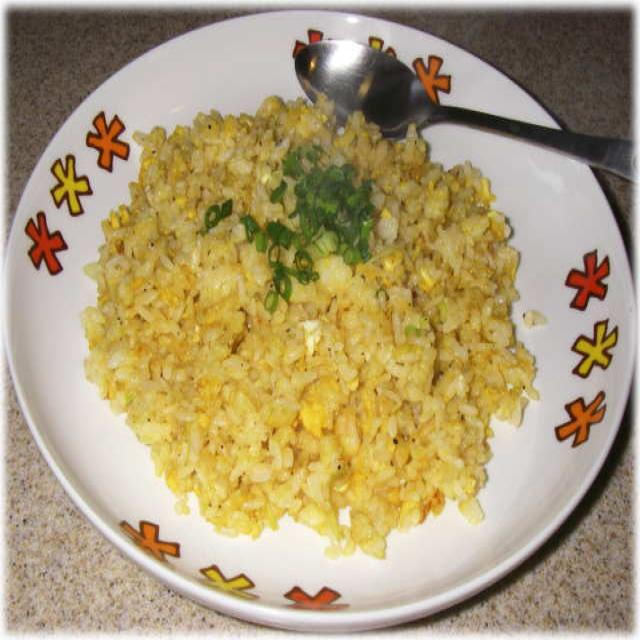米饭主食: (17, 31, 620, 610)
